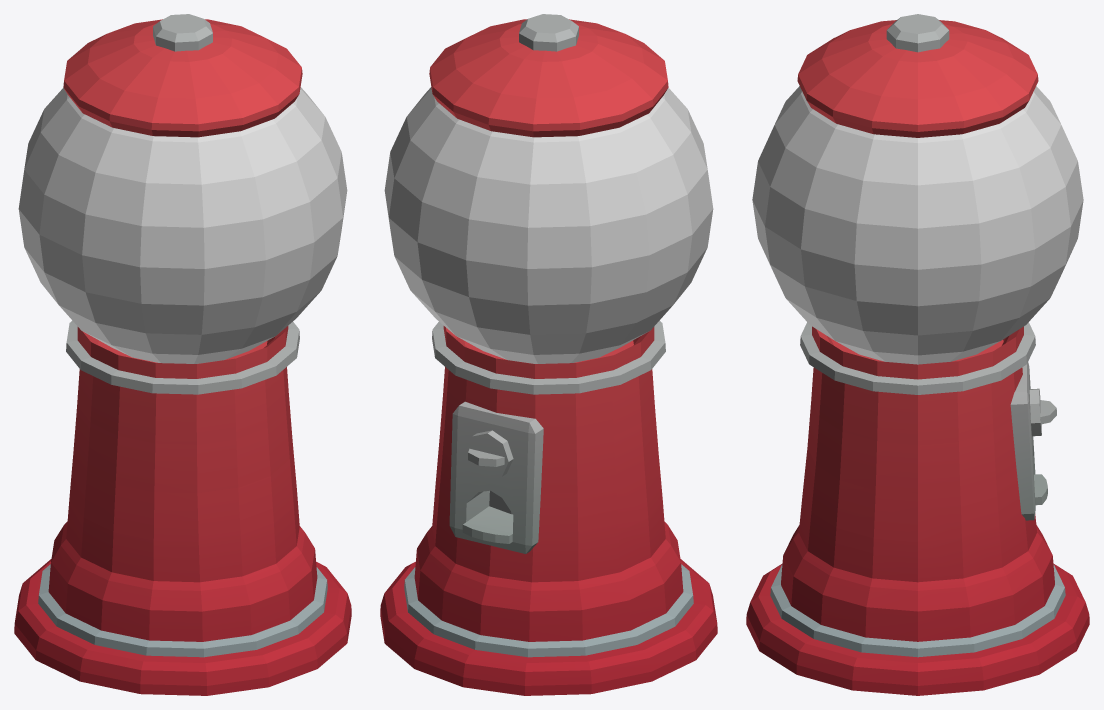
The model's file is gumballMachineblend.fbx.
3 renders of one model, left to right at view 1: azimuth 30°, elevation 25°; view 2: azimuth 150°, elevation 25°; view 3: azimuth 270°, elevation 25°, orthographic.
Visible parts, largest first — view 1: Base, Sphere, Top; view 2: Base, Sphere, Top, Pannel; view 3: Base, Sphere, Top, Pannel.
Part boxes in pixels (box(x1,y1,x2,y2)): Base: box(14, 320, 351, 695); Sphere: box(18, 87, 347, 363); Top: box(63, 14, 302, 137); Base: box(380, 320, 717, 695); Sphere: box(384, 87, 713, 363); Top: box(429, 14, 668, 137); Pannel: box(449, 401, 543, 553); Base: box(746, 322, 1089, 695); Sphere: box(752, 86, 1083, 364); Top: box(797, 14, 1038, 137); Pannel: box(1010, 362, 1056, 520).
Bounding box in the file's own units: 280 × 546 × 283.
